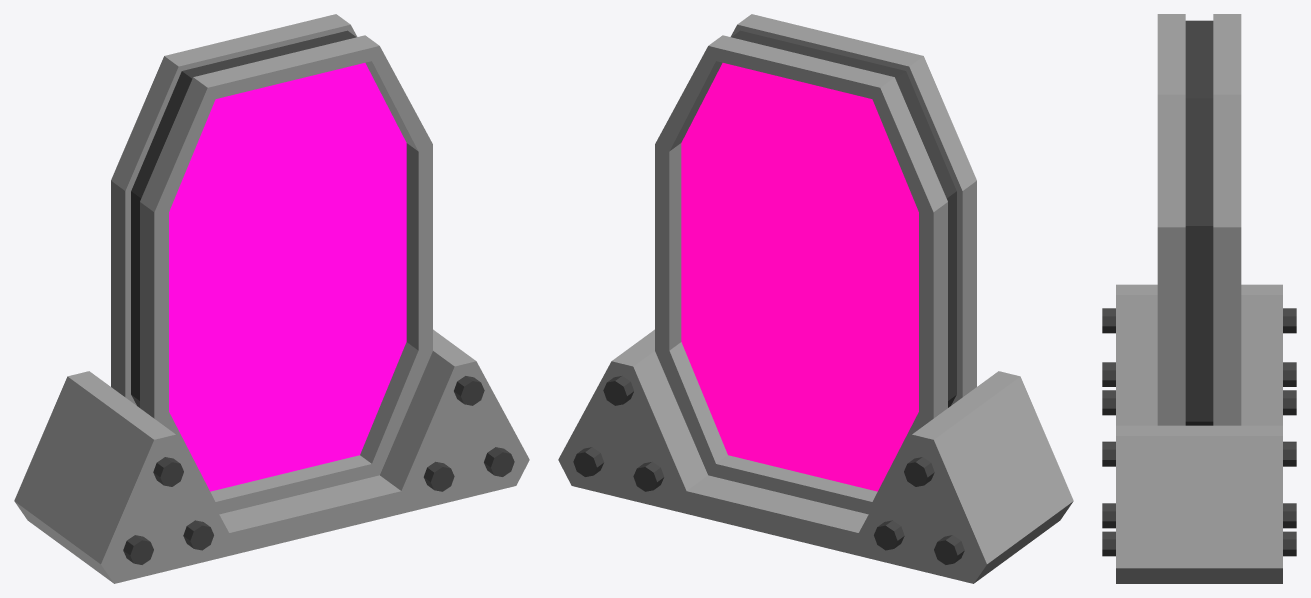
The model's file is Portal.glb.
The picture shows the model from 3 angles, left to right: view 1: azimuth 30°, elevation 25°; view 2: azimuth 150°, elevation 25°; view 3: azimuth 270°, elevation 25°; orthographic projection. The views are drawn at different scales.
Parts seen in each view (by area): view 1: FinishLine; view 2: FinishLine; view 3: FinishLine.
Part boxes in pixels (x1,y1,x2,y2): FinishLine: (14, 14, 529, 583); FinishLine: (558, 14, 1073, 583); FinishLine: (1102, 14, 1296, 583).
Bounding box in the file's own units: 3.93 × 3.96 × 1.6.
